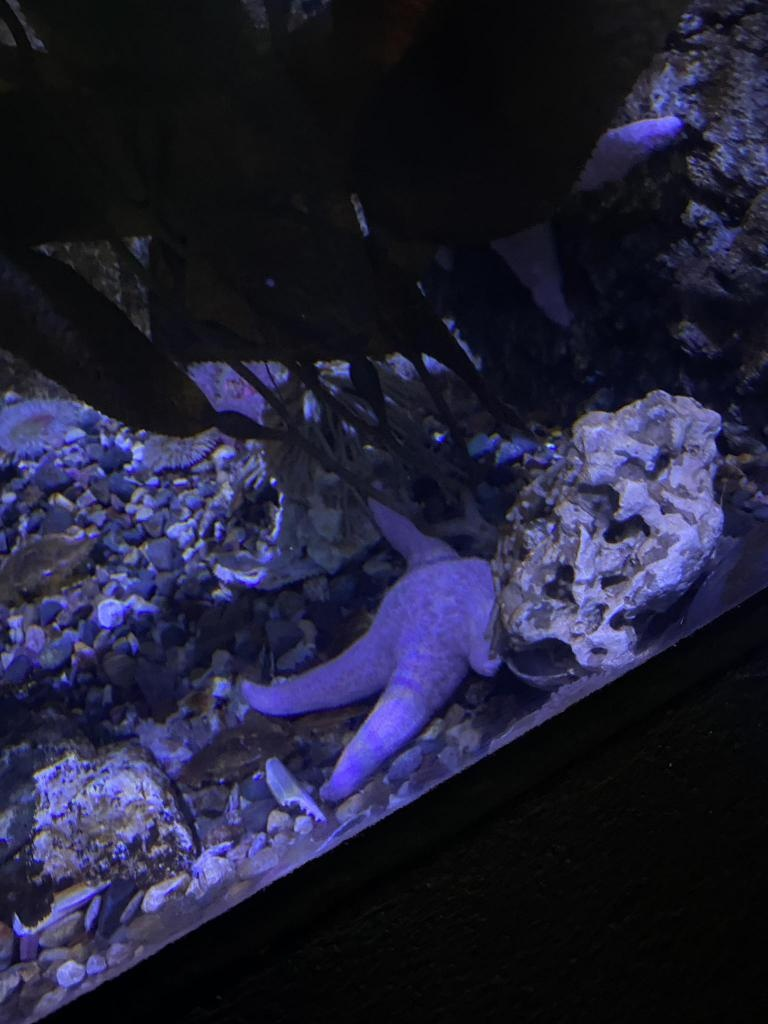starfish: (238, 494, 502, 806)
